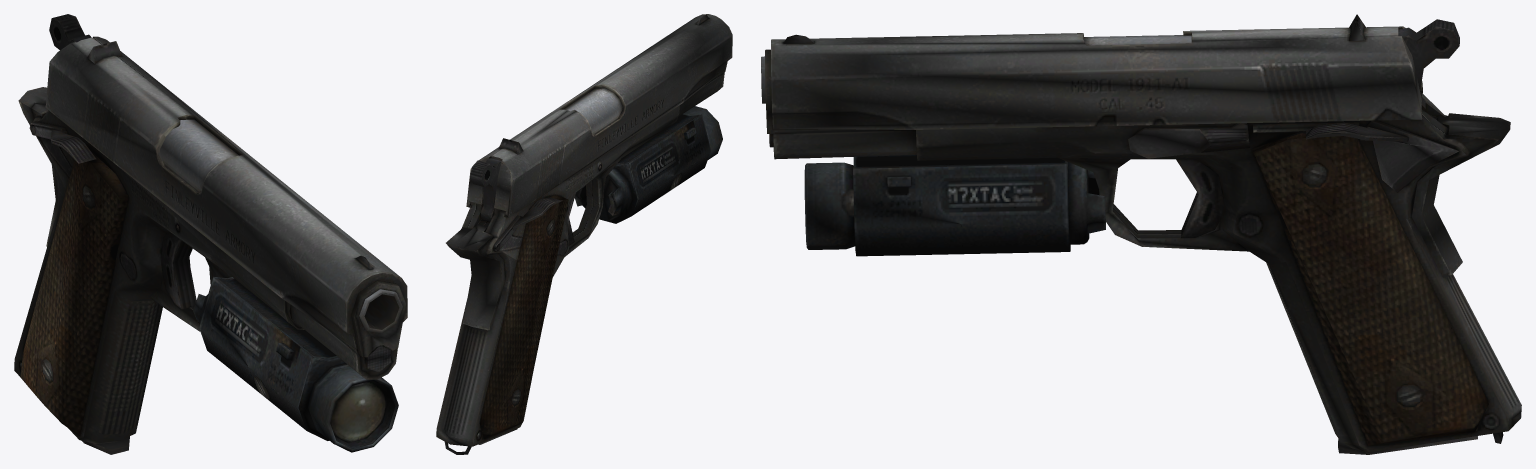
Rendered from Pistol.fbx.
3 views of the same model, side by side, from view 1: azimuth 30°, elevation 25°; view 2: azimuth 150°, elevation 25°; view 3: azimuth 270°, elevation 25° (orthographic). The views are drawn at different scales.
Visible parts, largest first — view 1: null_5; view 2: null_5; view 3: null_5.
Boxes of the visible parts, x1,y1,x2,y2 form: null_5: (14, 14, 407, 454); null_5: (436, 14, 732, 454); null_5: (761, 14, 1521, 454).
Bounding box in the file's own units: 3.54 × 13.47 × 21.8.
